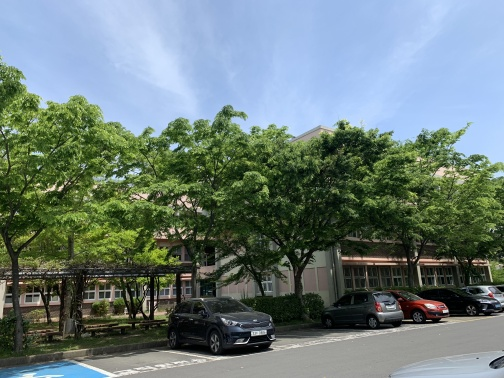College Of Education: (17, 139, 495, 334)
